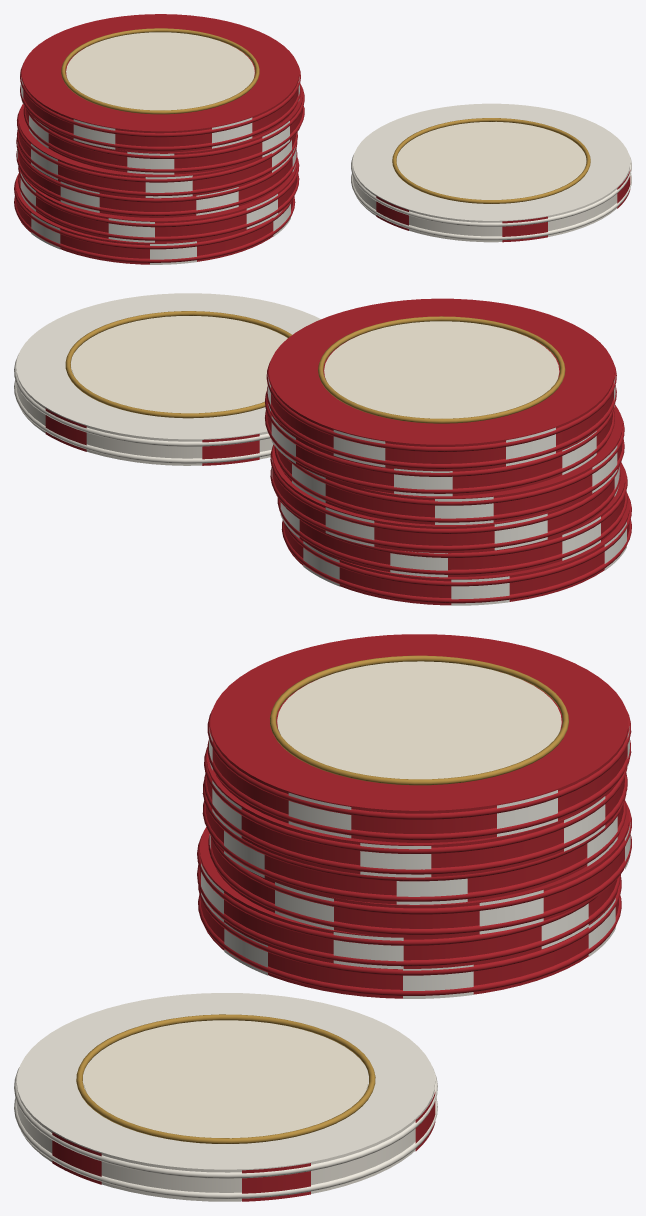
File: poker-chips-short.glb
3 renders of one model, top to bottom at view 1: azimuth 30°, elevation 25°; view 2: azimuth 150°, elevation 25°; view 3: azimuth 270°, elevation 25°, orthographic. The views are drawn at different scales.
Visible parts, largest first — view 1: chip_body (×7), face_inlay (×2), rim_groove (×14), inlay_ring (×2), edge_spot_0 (×4), edge_spot_1 (×4), edge_spot_5 (×3), edge_spot_2 (×2), edge_spot_4; view 2: chip_body (×7), face_inlay (×2), rim_groove (×14), inlay_ring (×2), edge_spot_4 (×5), edge_spot_5 (×4), edge_spot_3 (×3), edge_spot_0 (×3), edge_spot_2, edge_spot_1; view 3: chip_body (×7), face_inlay (×2), rim_groove (×14), inlay_ring (×2), edge_spot_2 (×4), edge_spot_3 (×4), edge_spot_1 (×3), edge_spot_4 (×2), edge_spot_0.
Boxes of the visible parts, x1=… form: chip_body (×7): x1=15, y1=14, x2=630, y2=264; face_inlay (×2): x1=66, y1=32, x2=585, y2=199; rim_groove (×14): x1=14, y1=63, x2=631, y2=262; inlay_ring (×2): x1=61, y1=28, x2=590, y2=203; edge_spot_0 (×4): x1=31, y1=117, x2=252, y2=249; edge_spot_1 (×4): x1=31, y1=144, x2=277, y2=264; edge_spot_5 (×3): x1=60, y1=119, x2=547, y2=242; edge_spot_2 (×2): x1=145, y1=121, x2=289, y2=198; edge_spot_4: x1=376, y1=196, x2=408, y2=230; chip_body (×7): x1=16, y1=293, x2=629, y2=605; face_inlay (×2): x1=71, y1=316, x2=559, y2=418; rim_groove (×14): x1=14, y1=354, x2=631, y2=603; inlay_ring (×2): x1=65, y1=311, x2=565, y2=423; edge_spot_4 (×5): x1=271, y1=416, x2=555, y2=586; edge_spot_5 (×4): x1=292, y1=464, x2=600, y2=605; edge_spot_3 (×3): x1=202, y1=430, x2=385, y2=546; edge_spot_0 (×3): x1=435, y1=431, x2=626, y2=570; edge_spot_2: x1=45, y1=408, x2=86, y2=451; edge_spot_1: x1=592, y1=445, x2=617, y2=493; chip_body (×7): x1=16, y1=634, x2=629, y2=1201; face_inlay (×2): x1=84, y1=661, x2=561, y2=1138; rim_groove (×14): x1=14, y1=710, x2=631, y2=1198; inlay_ring (×2): x1=76, y1=655, x2=568, y2=1143; edge_spot_2 (×4): x1=224, y1=790, x2=557, y2=975; edge_spot_3 (×4): x1=224, y1=830, x2=588, y2=998; edge_spot_1 (×3): x1=242, y1=793, x2=351, y2=1201; edge_spot_4 (×2): x1=396, y1=796, x2=605, y2=904; edge_spot_0: x1=52, y1=1132, x2=101, y2=1184.
Size of the model in its own units: 0.0842 by 0.021 by 0.0576.
